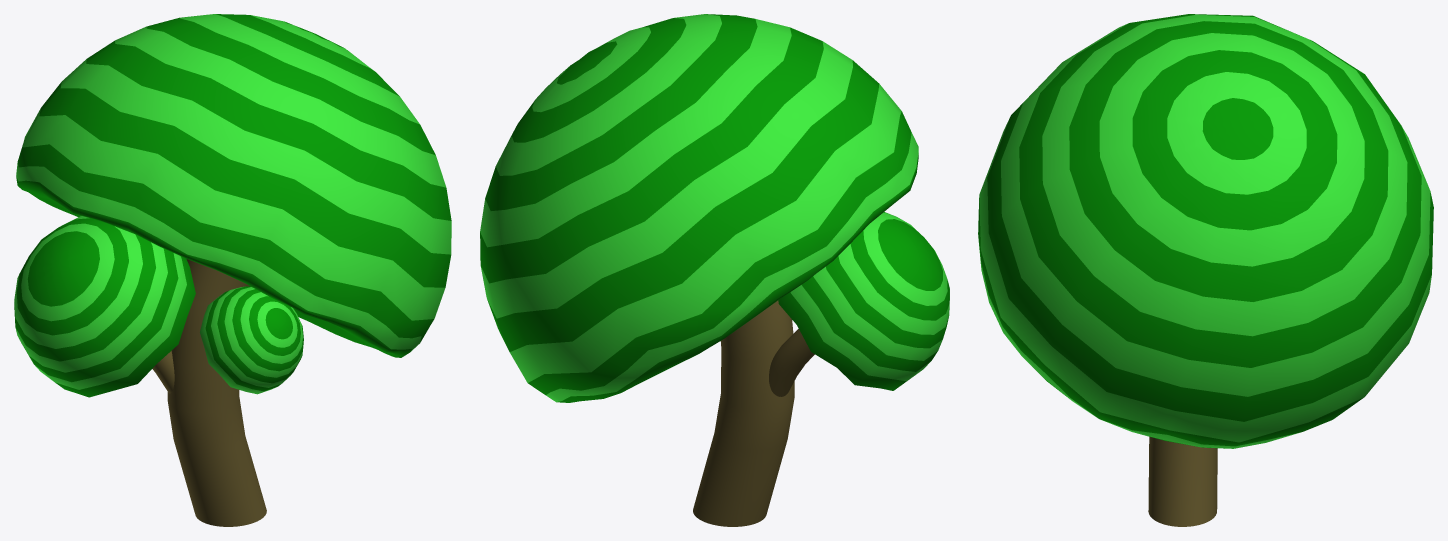
Rendered from BumpyTree.fbx.
3 renders of one model, left to right at view 1: azimuth 30°, elevation 25°; view 2: azimuth 150°, elevation 25°; view 3: azimuth 270°, elevation 25°, orthographic. The views are drawn at different scales.
Parts seen in each view (by area): view 1: pCylinder5; view 2: pCylinder5; view 3: pCylinder5.
Part boxes in pixels (bbox=[...]): pCylinder5: bbox=[14, 14, 451, 526]; pCylinder5: bbox=[480, 14, 949, 526]; pCylinder5: bbox=[978, 14, 1433, 526].
Bounding box in the file's own units: 1141 × 1264 × 1091.
